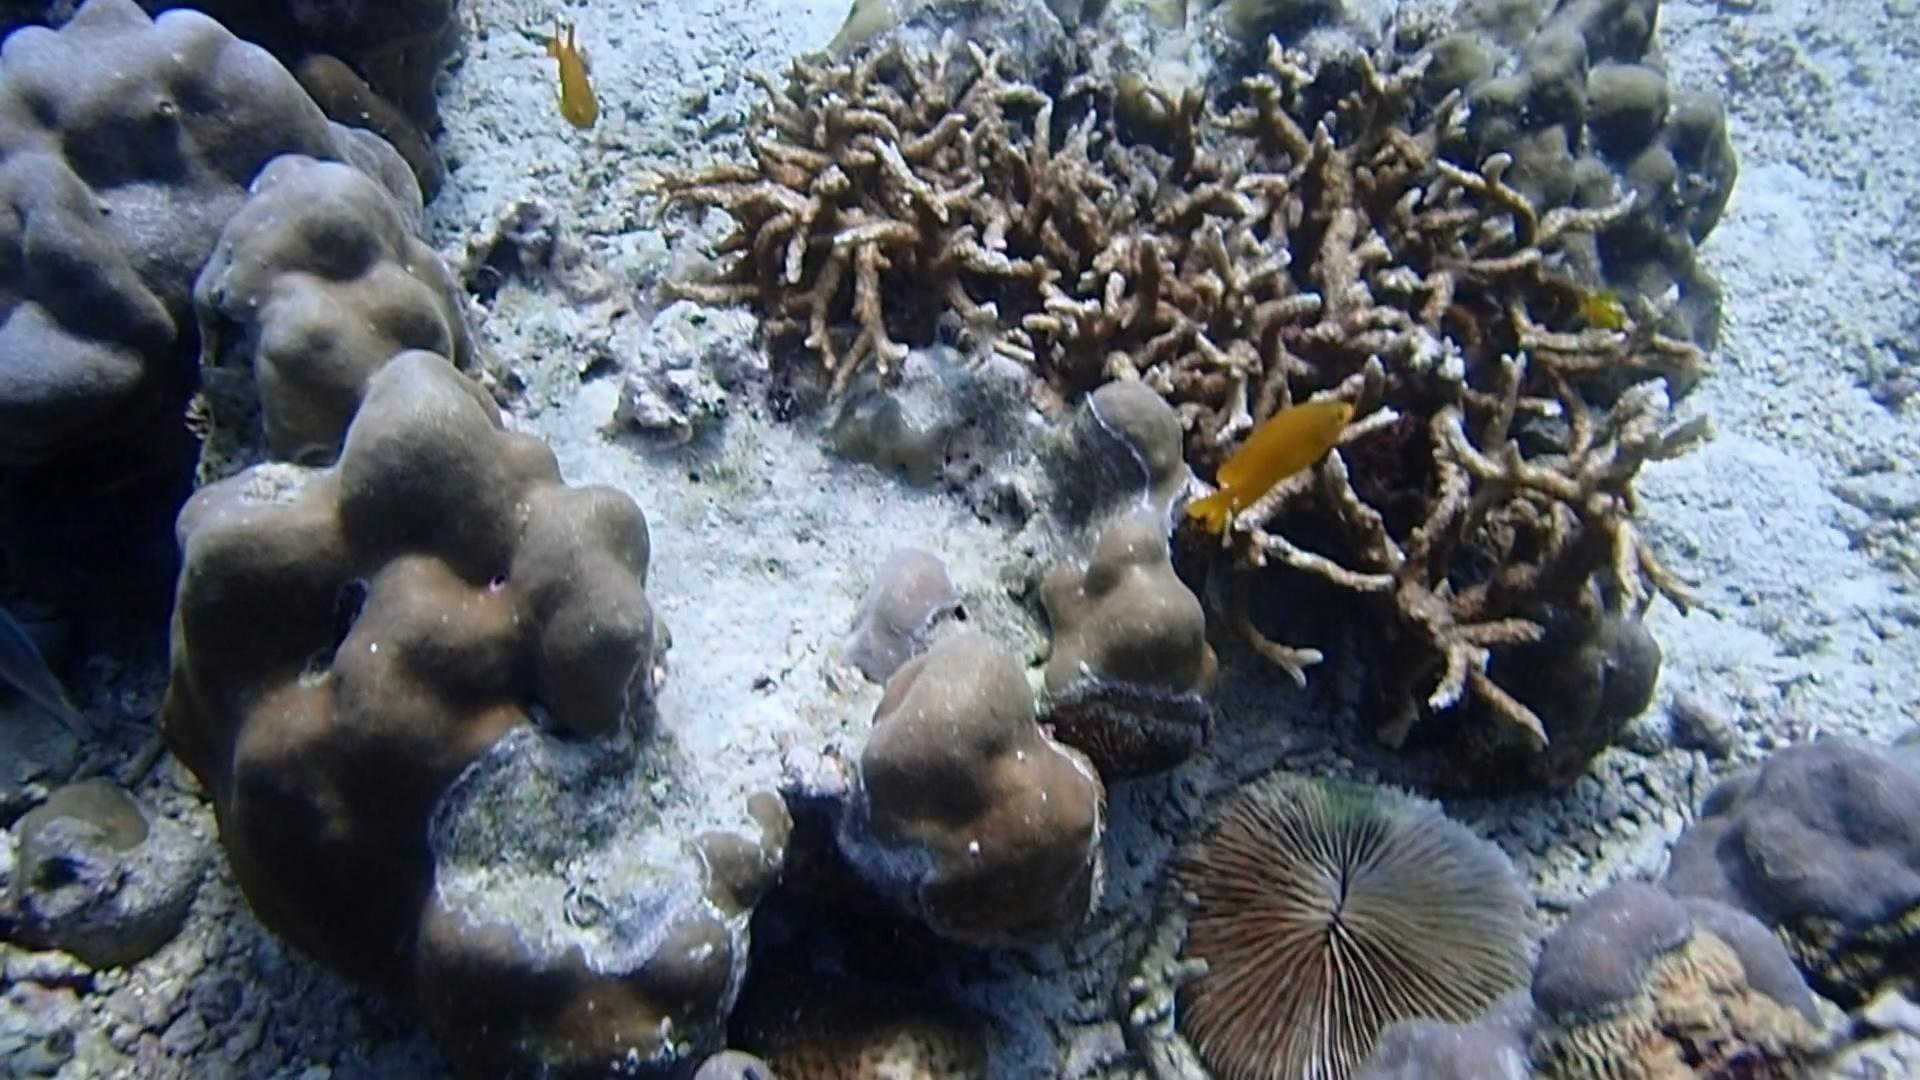Yellow Fish: (1179, 386, 1360, 539), (542, 21, 611, 144), (1568, 289, 1625, 343)
